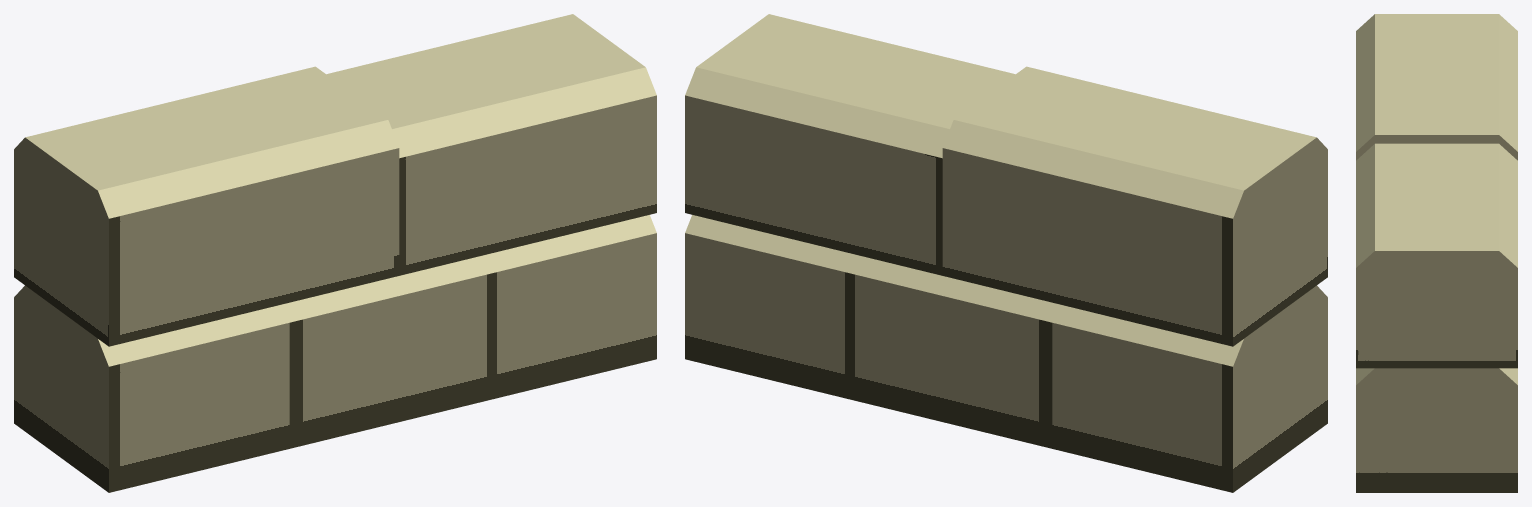
The picture shows the model from 3 angles, left to right: view 1: azimuth 30°, elevation 25°; view 2: azimuth 150°, elevation 25°; view 3: azimuth 270°, elevation 25°; orthographic projection. The views are drawn at different scales.
Size of the model in its own units: 1 by 0.513 by 0.3.
Materials: 1 (1 with a texture image).
